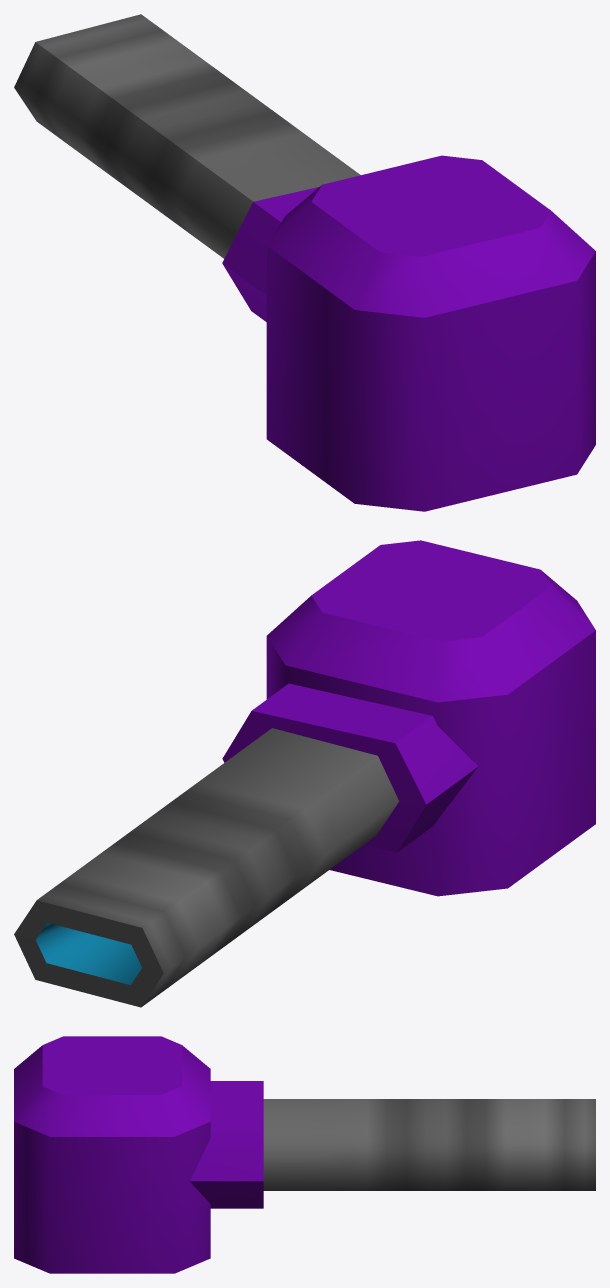
File: MachineGun1Enemy7.fbx
3 renders of one model, top to bottom at view 1: azimuth 30°, elevation 25°; view 2: azimuth 150°, elevation 25°; view 3: azimuth 270°, elevation 25°, orthographic. The views are drawn at different scales.
Parts seen in each view (by area): view 1: MachineGun1Enemy7; view 2: MachineGun1Enemy7; view 3: MachineGun1Enemy7.
Boxes of the visible parts, x1,y1,x2,y2 form: MachineGun1Enemy7: [14, 14, 595, 511]; MachineGun1Enemy7: [14, 540, 595, 1007]; MachineGun1Enemy7: [14, 1036, 595, 1273].
Bounding box in the file's own units: 0.8578 × 0.29 × 0.271.
